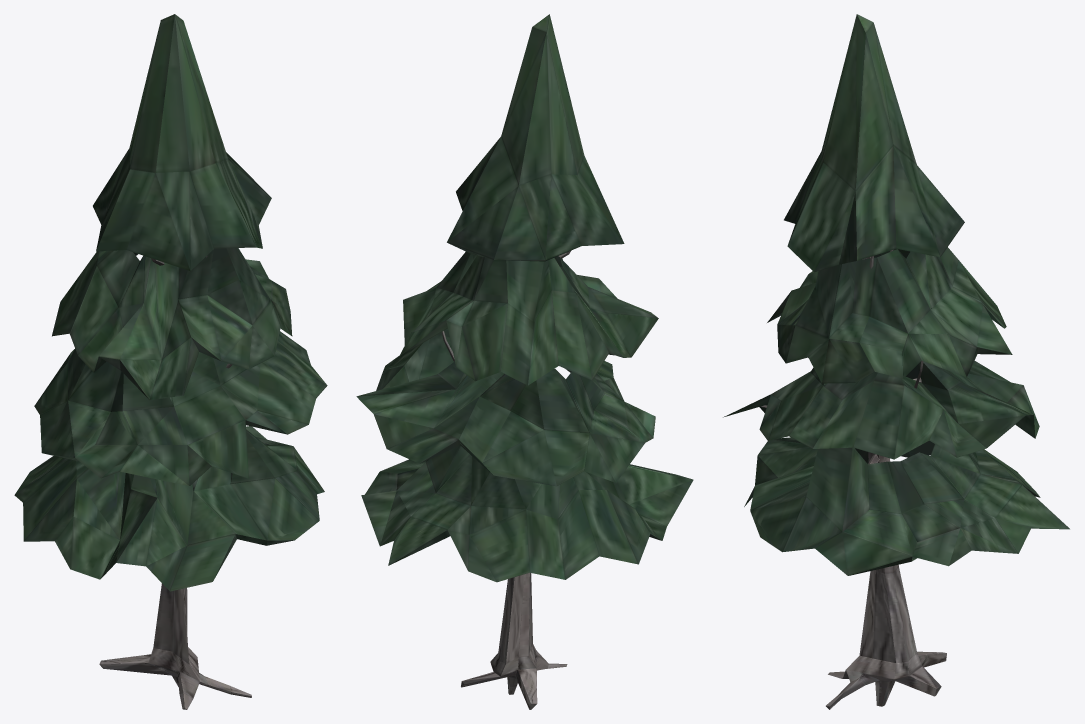
The model's file is spruce.glb.
3 views of the same model, side by side, from view 1: azimuth 30°, elevation 25°; view 2: azimuth 150°, elevation 25°; view 3: azimuth 270°, elevation 25° (orthographic). The views are drawn at different scales.
Parts seen in each view (by area): view 1: tree_tree-spruce_0; view 2: tree_tree-spruce_0; view 3: tree_tree-spruce_0.
Part boxes in pixels (x1=…): tree_tree-spruce_0: x1=14, y1=14, x2=327, y2=709; tree_tree-spruce_0: x1=356, y1=14, x2=693, y2=709; tree_tree-spruce_0: x1=723, y1=14, x2=1069, y2=709.
Size of the model in its own units: 402 by 989 by 460.
1 material, 1 textured.
